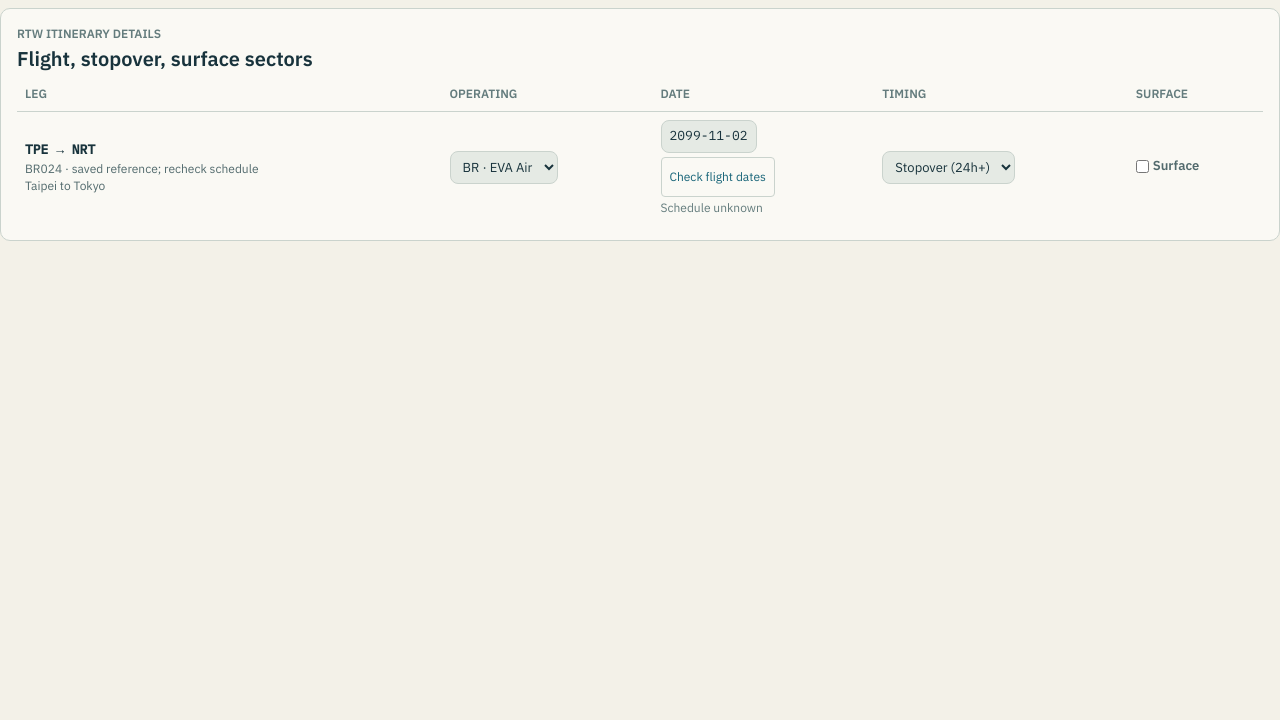
re-querying an existing leg keeps its operating carrier and selected flight number
Click the button "Check flight dates" at (718, 177), box 660,157 -> 775,197
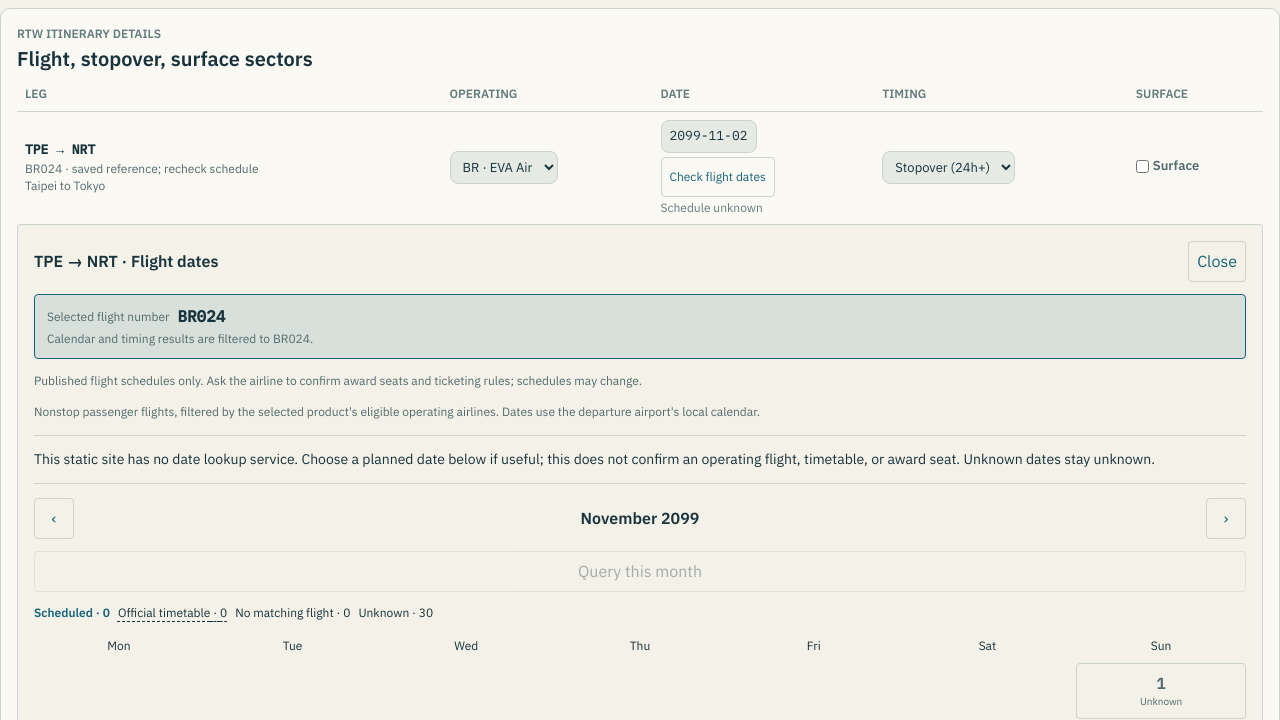
Result: the element that starts with "Selected flight number" shows "BR024" at 177,306 -> 225,326
